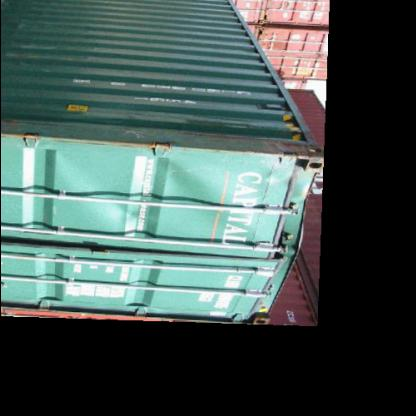Damage: (150, 129, 314, 294), (1, 6, 105, 104), (111, 190, 141, 236)
